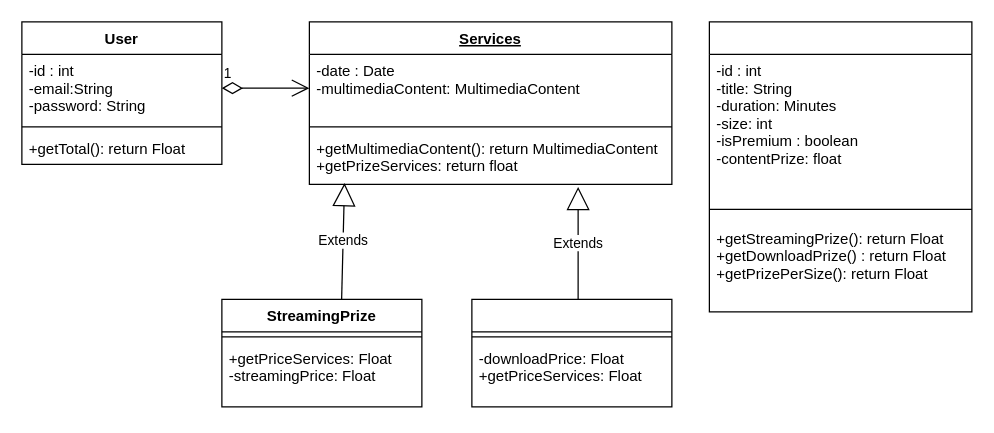
The diagram is 994 pixels wide and 433 high, and some of its shapes have lost their labels. Here are the shapes that lost their labels. From the top down, the box of each, then its label:
(708, 21, 972, 312): MultimediaContent
(471, 298, 672, 407): DownloadPrize
